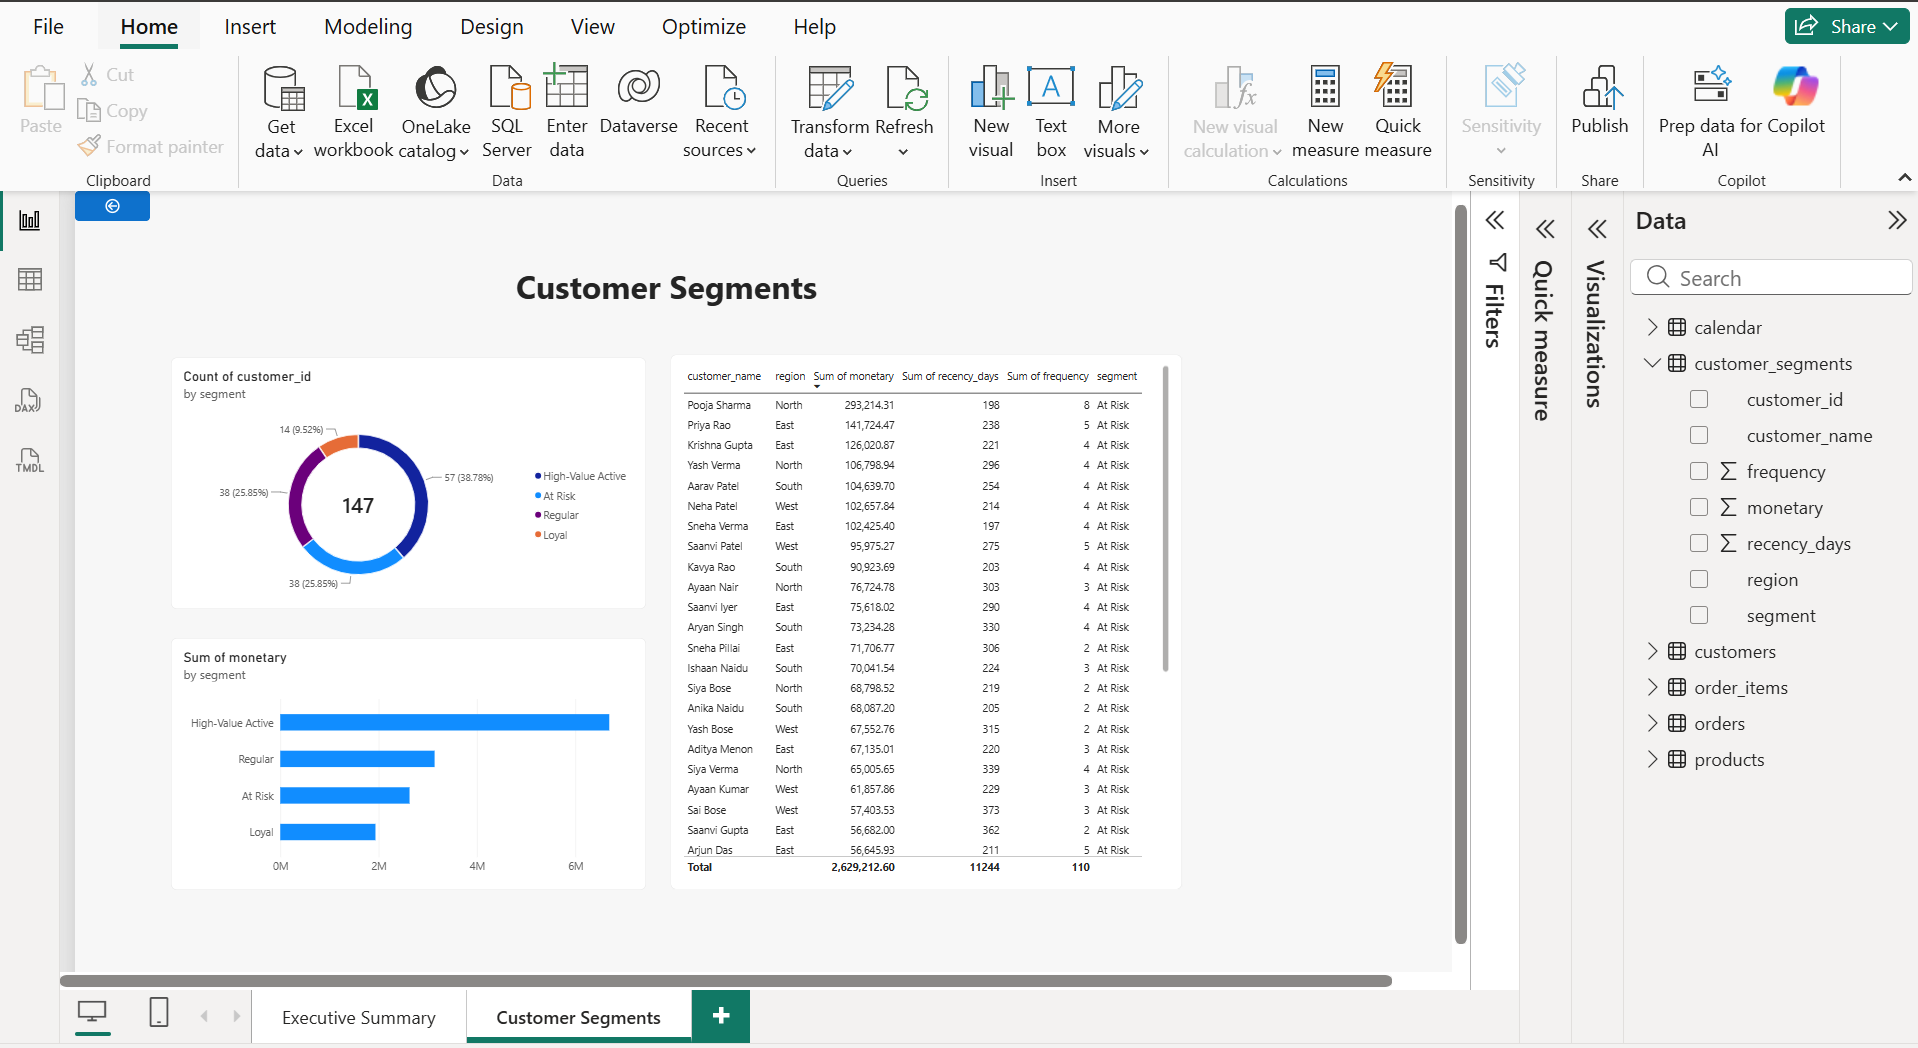

This screenshot's page, from the dashboard's own definition file:
{"tool":"powerbi","page":{"name":"Customer Segments","canvas":[1920,1080],"ordinal":2},"visuals":[{"type":"donutChart","fields":{"Category":["customer_segments.segment"],"Y":["Count(customer_segments.customer_id)"]},"box":[128,222,633.3,335.6],"z":0},{"type":"clusteredBarChart","fields":{"Category":["customer_segments.segment"],"Y":["Sum(customer_segments.monetary)"]},"box":[128,596,633,336],"z":1000},{"type":"tableEx","fields":{"Values":["customer_segments.customer_name","customer_segments.region","Sum(customer_segments.monetary)","Sum(customer_segments.recency_days)","Sum(customer_segments.frequency)","customer_segments.segment"]},"box":[794,218,682.2,713.3],"z":2000},{"type":"actionButton","box":[0,0,100,40],"z":3000},{"type":"textbox","box":[588,98,526,104],"z":4000}]}

Visuals, with their boxes on the page's 1920x1080 design canvas (x1, y1, x2, y2). These are canvas units, not pixel positions in the 1918x1048 screenshot, which may show the page scaled, cropped or inside an application window:
donutChart - customer_segments.segment x Count(customer_segments.customer_id): (left=128, top=222, right=761, bottom=558)
clusteredBarChart - customer_segments.segment x Sum(customer_segments.monetary): (left=128, top=596, right=761, bottom=932)
tableEx - customer_segments.customer_name x customer_segments.region: (left=794, top=218, right=1476, bottom=931)
actionButton: (left=0, top=0, right=100, bottom=40)
textbox: (left=588, top=98, right=1114, bottom=202)
